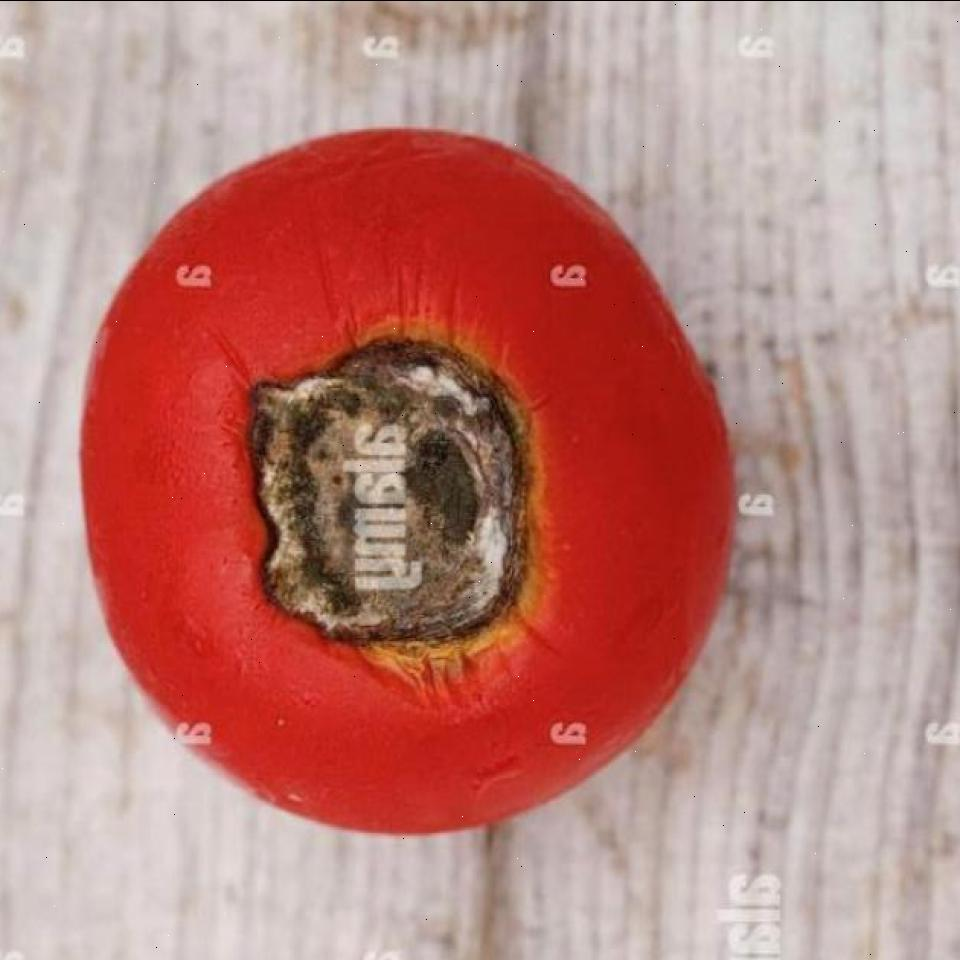Blossom_end_rot: (234, 336, 556, 665)
